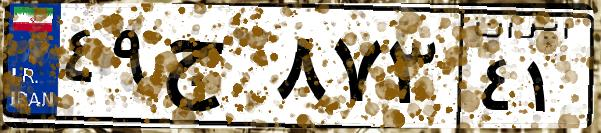1: (525, 38, 570, 115)
3: (385, 28, 445, 110)
4: (57, 26, 110, 100), (475, 38, 525, 113)
7: (330, 28, 385, 110)
8: (270, 28, 330, 110)
9: (110, 28, 158, 98)
ج: (158, 20, 270, 120)
